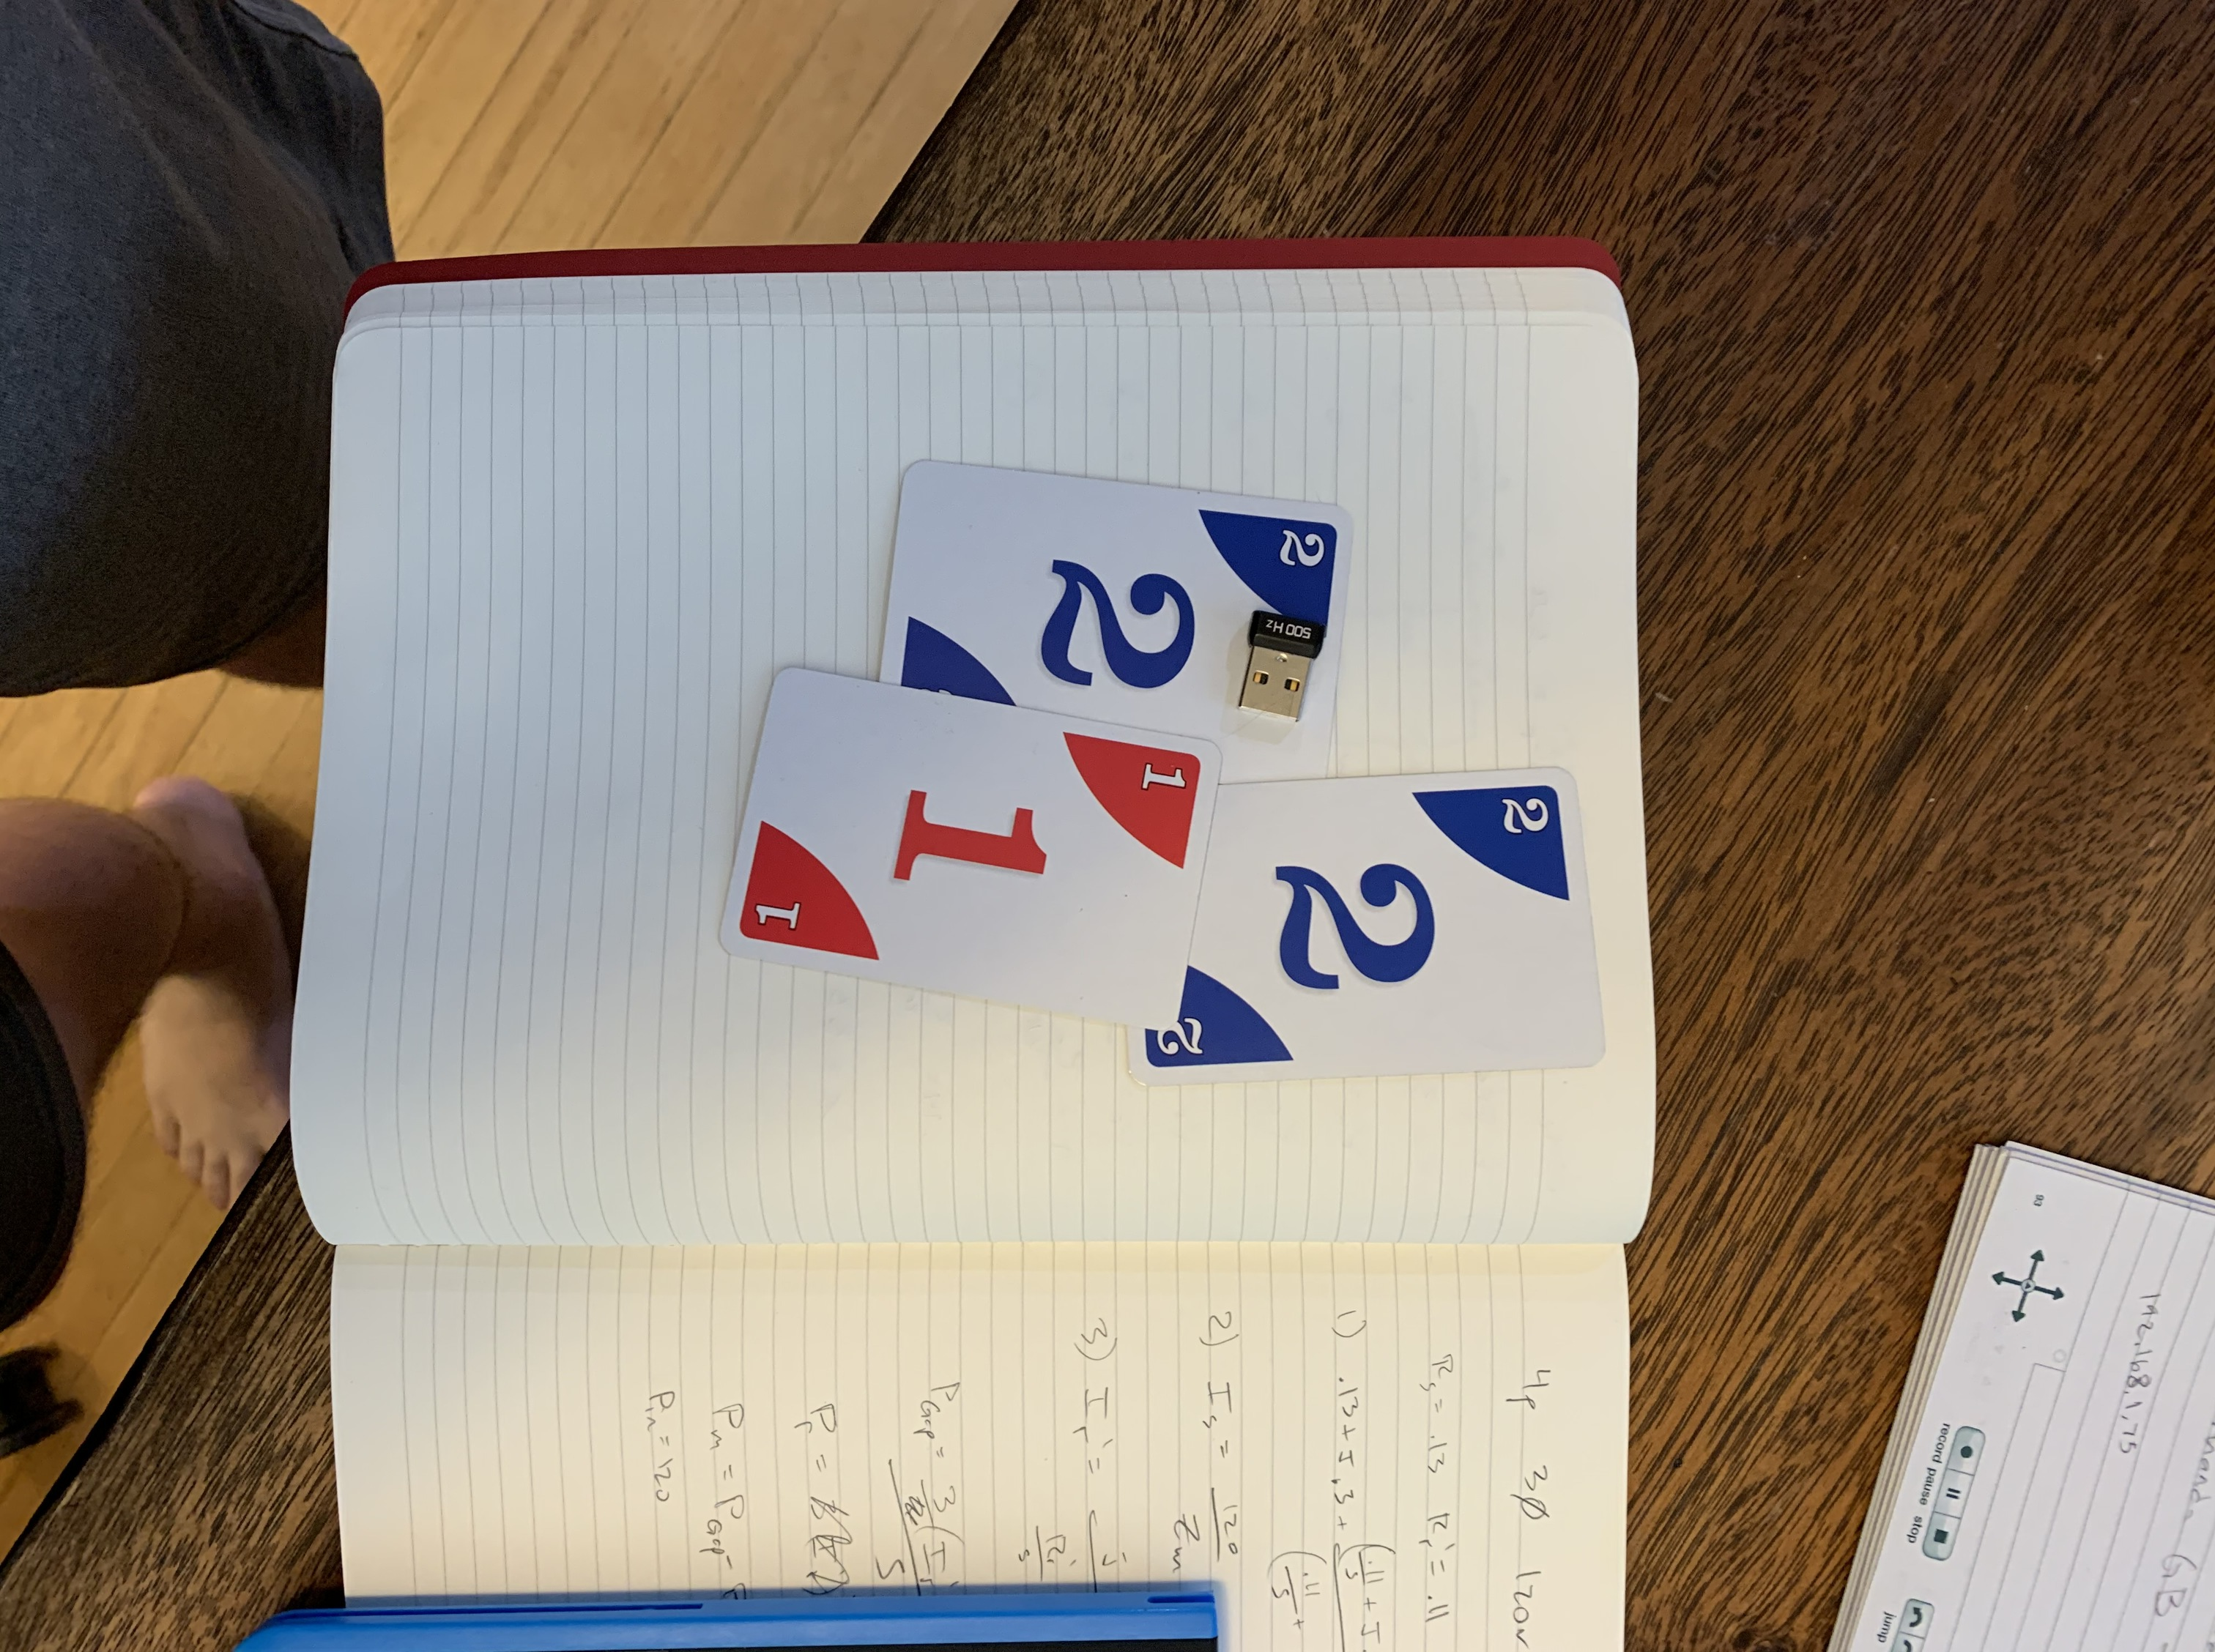one: (707, 659, 1224, 1048)
two: (863, 451, 1377, 826)
